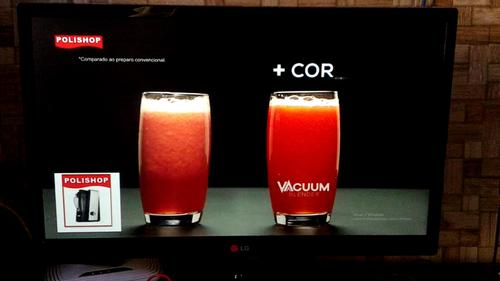Polishop #1: (53, 172, 121, 233)
